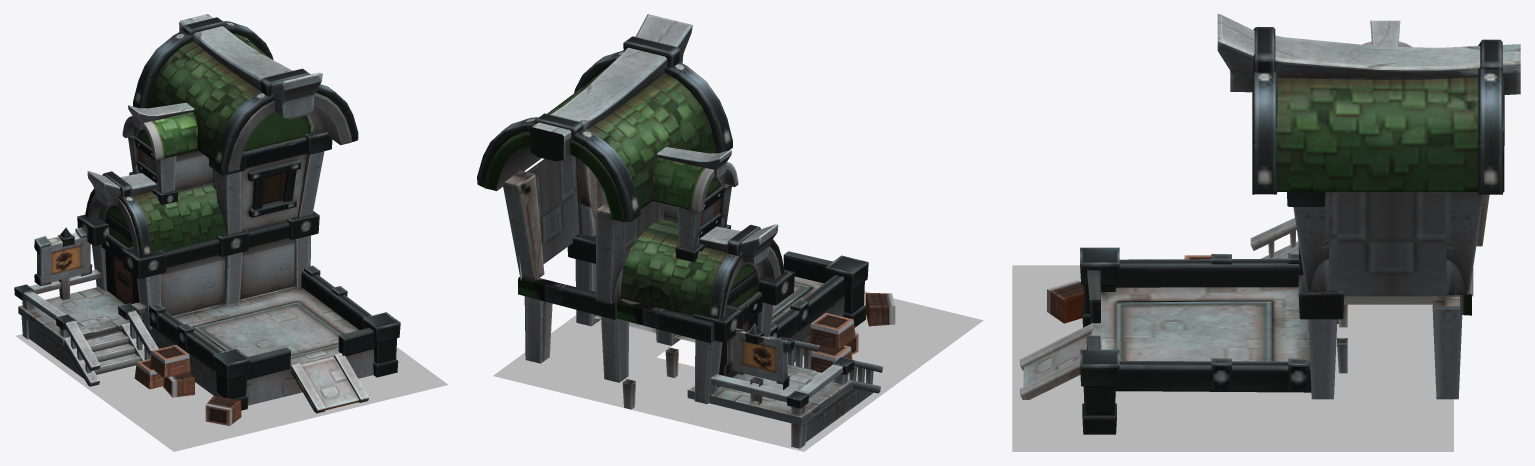
Rendered from C_StorageHouse_LV4.fbx.
The picture shows the model from 3 angles, left to right: view 1: azimuth 30°, elevation 25°; view 2: azimuth 150°, elevation 25°; view 3: azimuth 270°, elevation 25°; orthographic projection. The views are drawn at different scales.
Visible parts, largest first — view 1: Storage_house_LV04_0_mesh, Storage_house_LV04_1_mesh; view 2: Storage_house_LV04_0_mesh, Storage_house_LV04_1_mesh; view 3: Storage_house_LV04_0_mesh, Storage_house_LV04_1_mesh.
Part boxes in pixels (left/top/right/bottom): Storage_house_LV04_0_mesh: left=14, top=14, right=400, bottom=425; Storage_house_LV04_1_mesh: left=15, top=332, right=448, bottom=451; Storage_house_LV04_0_mesh: left=477, top=14, right=895, bottom=448; Storage_house_LV04_1_mesh: left=493, top=291, right=983, bottom=451; Storage_house_LV04_0_mesh: left=1020, top=14, right=1520, bottom=434; Storage_house_LV04_1_mesh: left=1012, top=265, right=1453, bottom=451.
Bounding box in the file's own units: 120 × 114 × 138.
